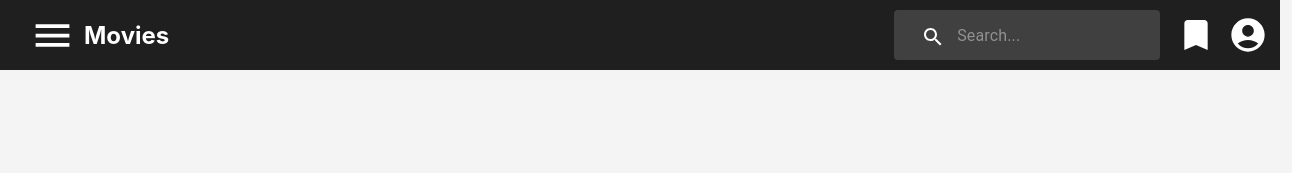
Scenario: render Header › should open right menu with SignIn menu item when menu was clicked when user signed in
Click the button with test id "AccountCircleRoundedIcon": [1248, 35] box x1=1216 y1=15 x2=1280 y2=55
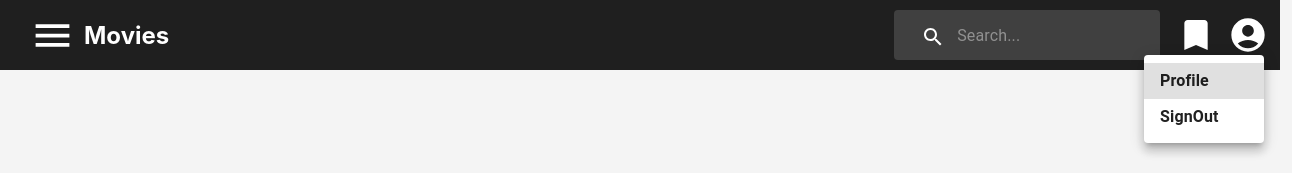
Expected: the menu item "SignOut" is shown, x1=1160 y1=107 x2=1219 y2=126
